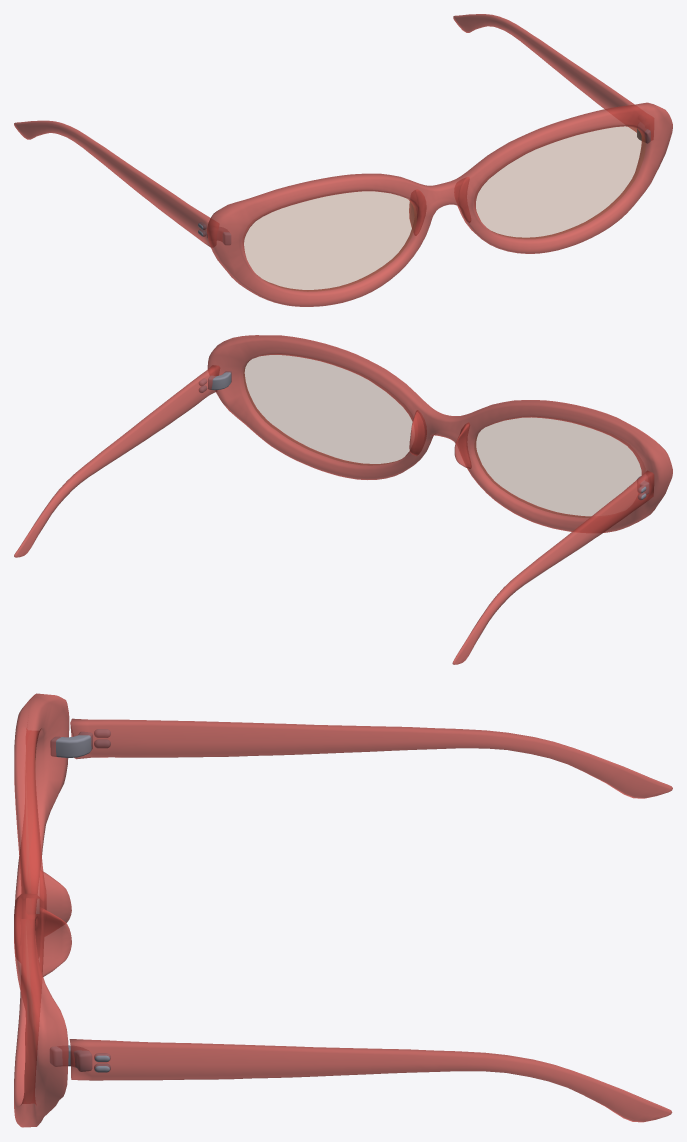
File: cherry.glb
3 views of the same model, one above another, from view 1: azimuth 30°, elevation 25°; view 2: azimuth 150°, elevation 25°; view 3: azimuth 270°, elevation 25° (orthographic). The views are drawn at different scales.
Visible parts, largest first — view 1: model_6.004; view 2: model_6.004; view 3: model_6.004.
Boxes of the visible parts, left/top/right/bottom form: model_6.004: left=14, top=14, right=672, bottom=306; model_6.004: left=14, top=335, right=672, bottom=664; model_6.004: left=14, top=693, right=672, bottom=1127.
Bounding box in the file's own units: 2.21 × 0.5738 × 1.81.
